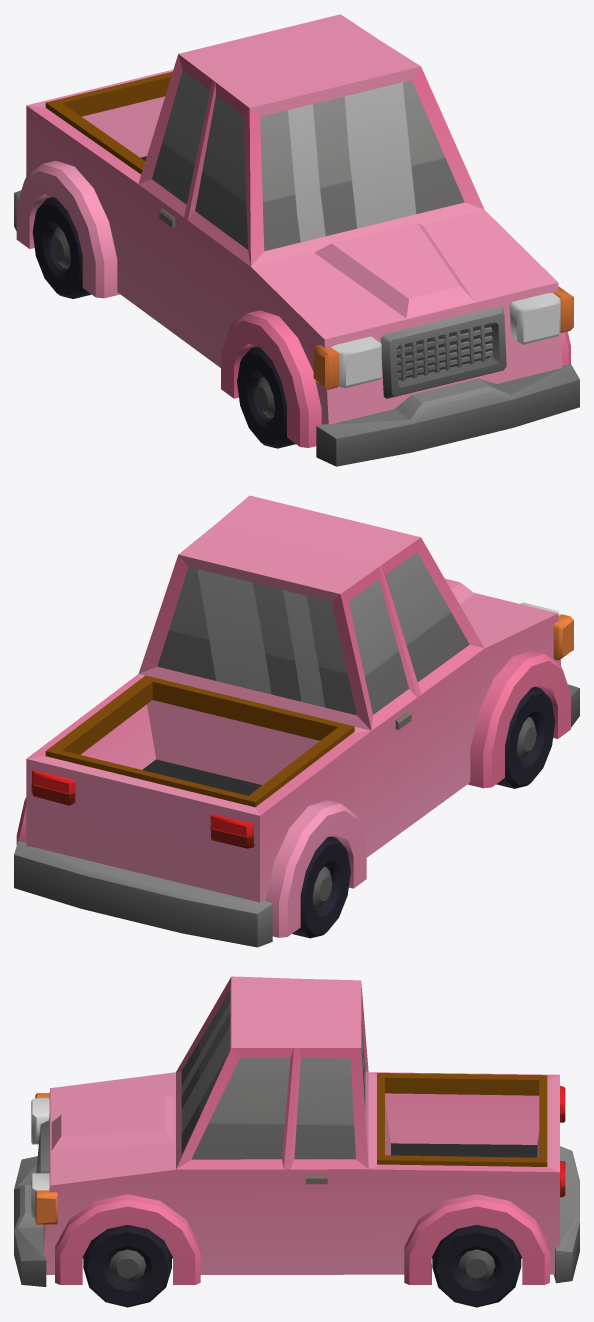
File: PickUp_7.glb
3 renders of one model, top to bottom at view 1: azimuth 30°, elevation 25°; view 2: azimuth 150°, elevation 25°; view 3: azimuth 270°, elevation 25°, orthographic. The views are drawn at different scales.
Parts seen in each view (by area): view 1: PickUp_7, BWhel_BR, BWhel_FR; view 2: PickUp_7, BWhel_BR, BWhel_FR; view 3: PickUp_7, BWhel_BL, BWhel_FL.
Boxes of the visible parts, x1,y1,x2,y2 form: PickUp_7: (14,14,579,466); BWhel_BR: (32,197,91,298); BWhel_FR: (237,346,295,448); PickUp_7: (14,495,579,947); BWhel_BR: (292,836,350,938); BWhel_FR: (496,687,554,788); PickUp_7: (14,976,579,1286); BWhel_BL: (432,1225,521,1307); BWhel_FL: (83,1225,171,1307).
Bounding box in the file's own units: 1.09 × 1.08 × 2.3.
Materials: 6 (6 with a texture image).
